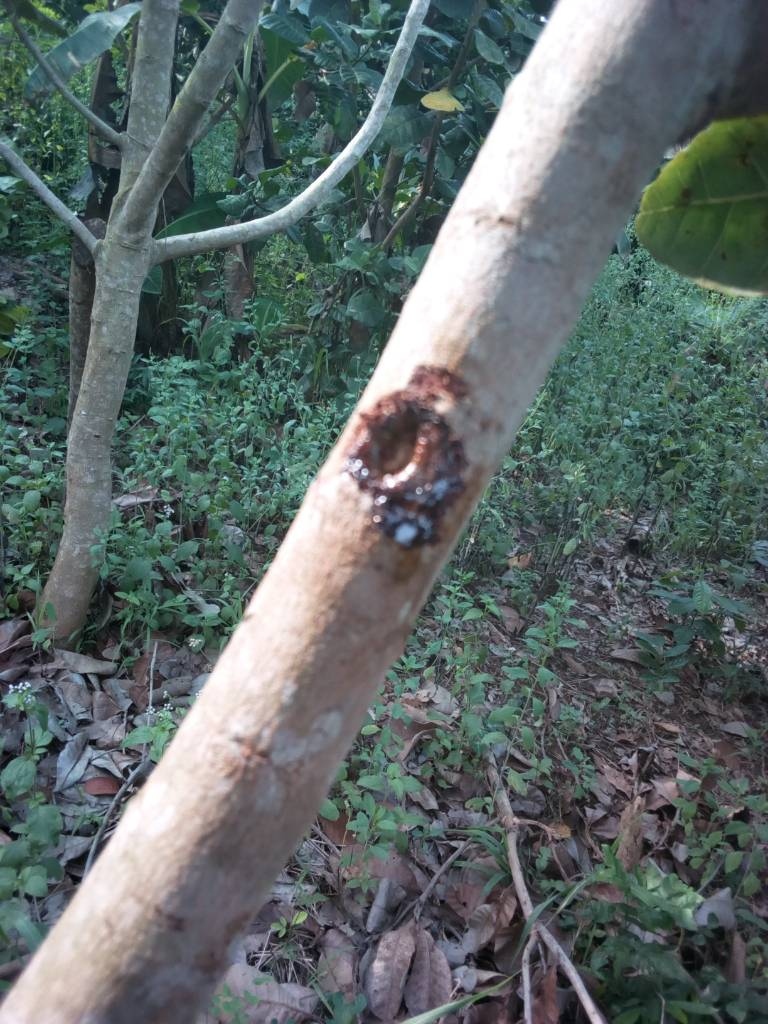Apate terebrans: (305, 367, 513, 580)
